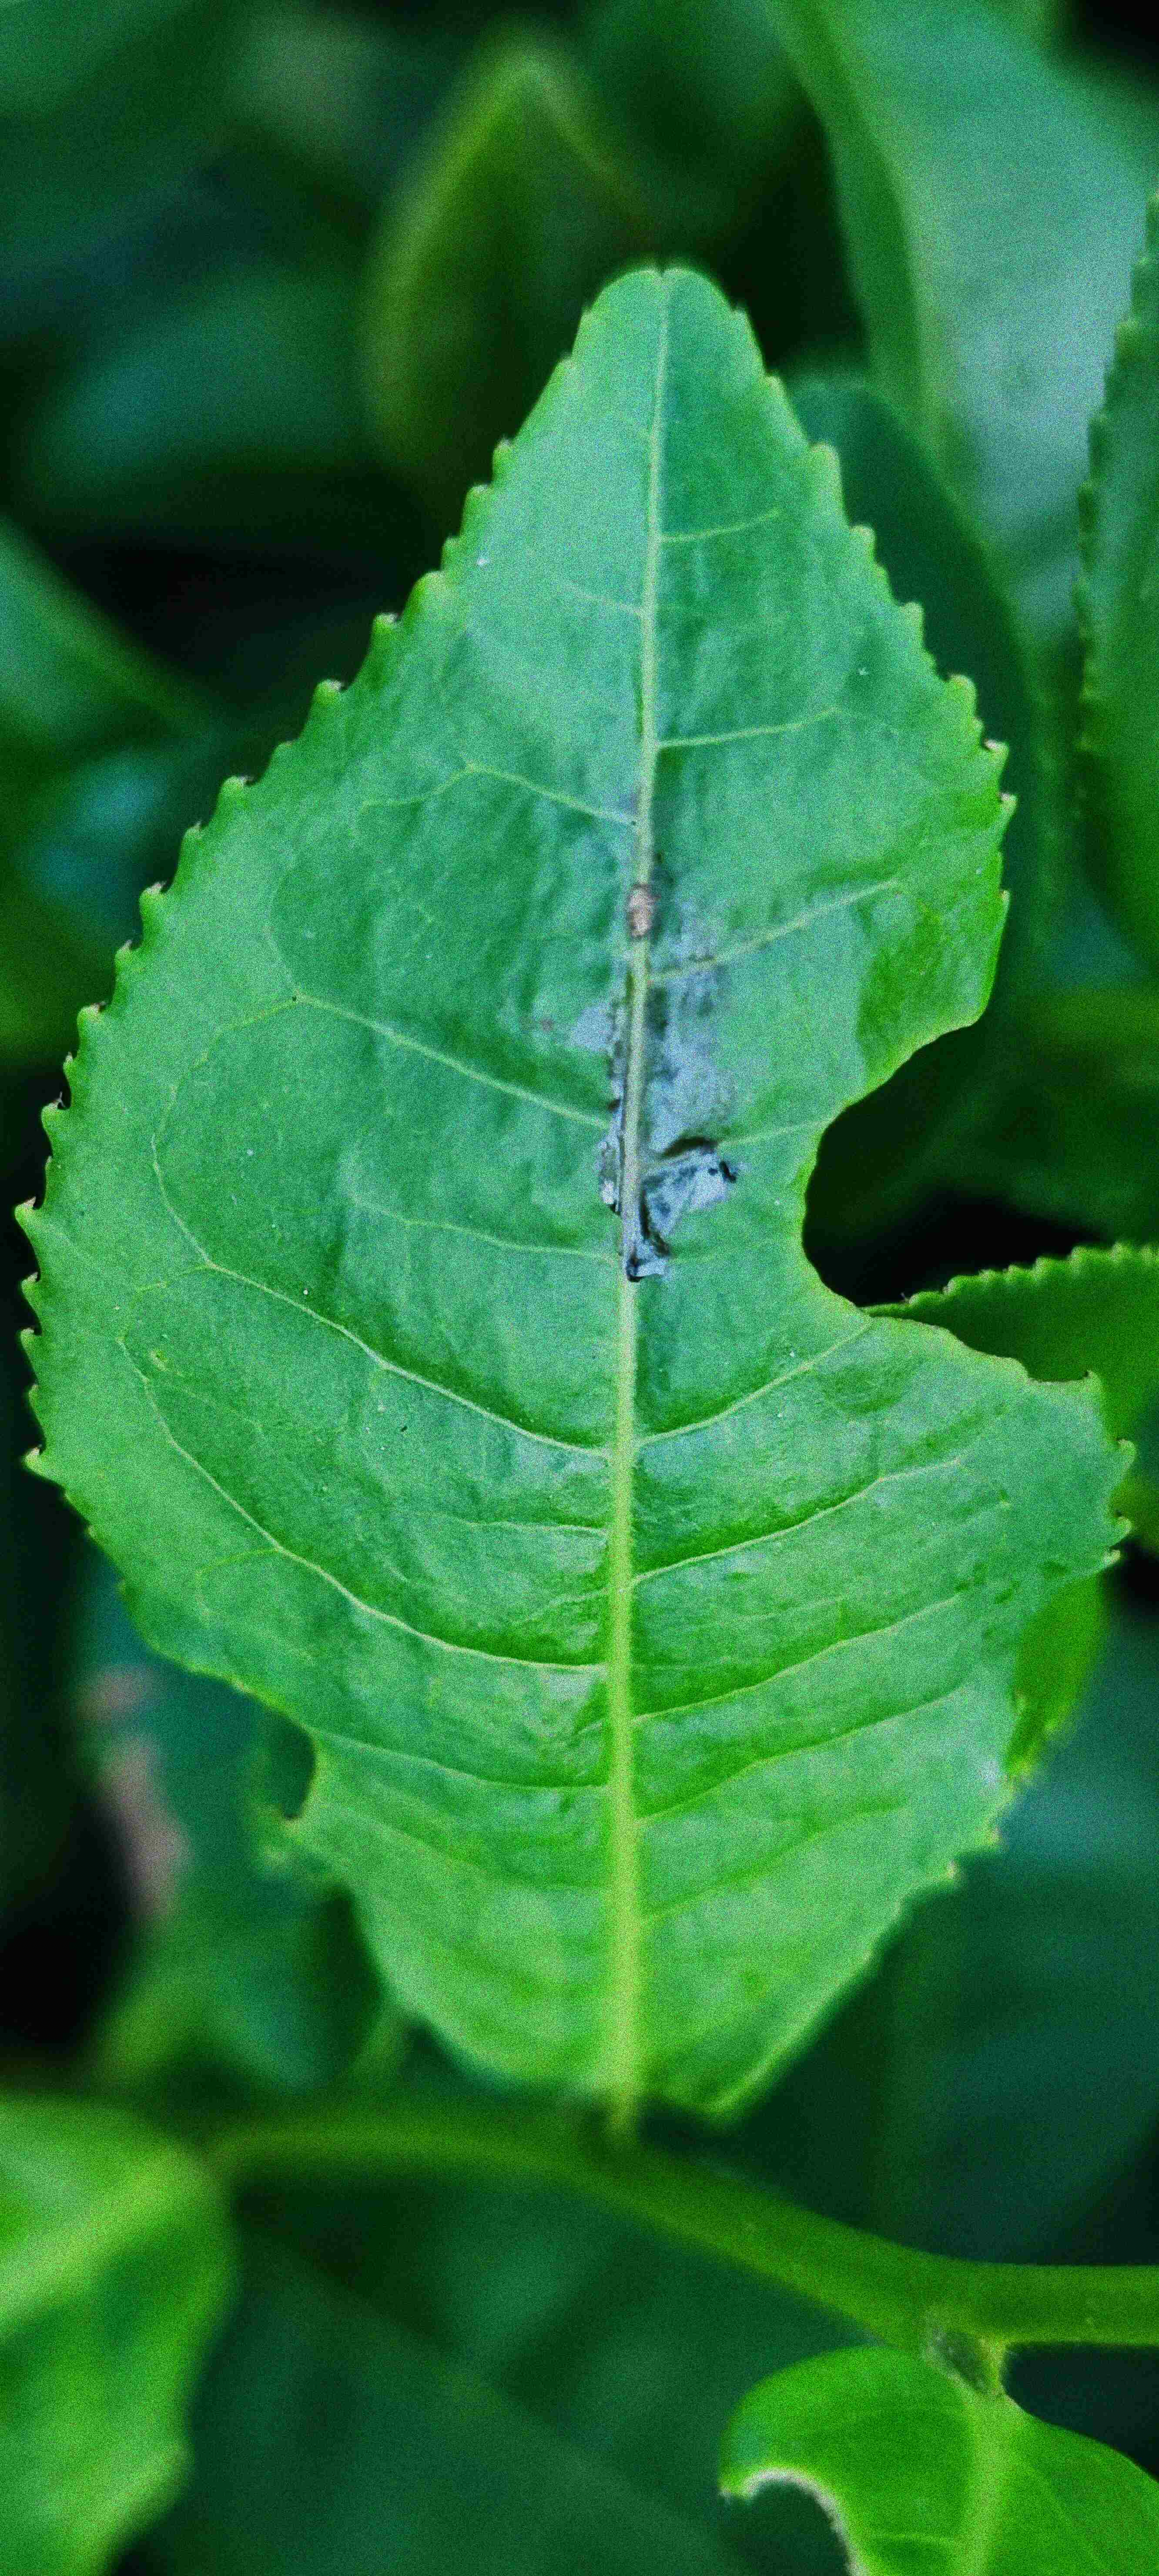chihuo_high: (16, 255, 1136, 2116)
